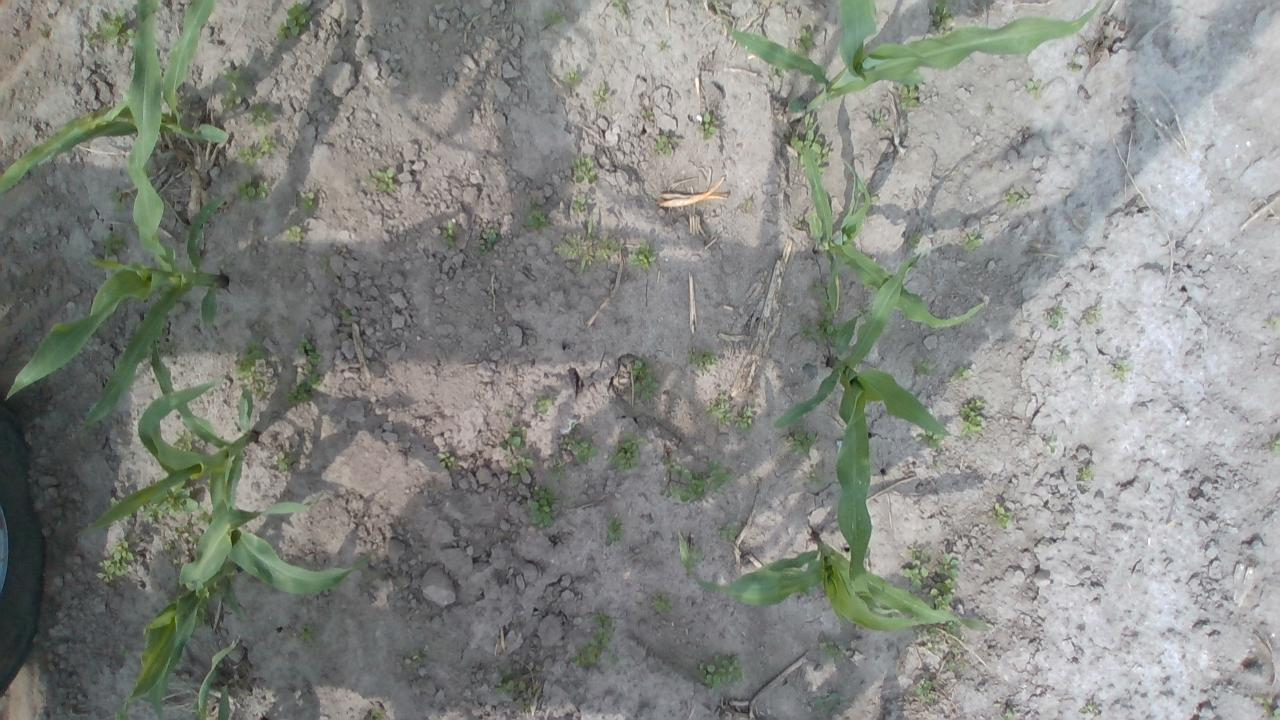Maize: (0, 0, 229, 431), (84, 338, 372, 594), (774, 254, 968, 624), (724, 0, 1106, 115), (116, 499, 314, 720), (793, 133, 985, 331), (676, 520, 996, 631), (0, 97, 233, 196), (107, 0, 215, 126), (195, 640, 234, 720)
Weeds: (660, 456, 736, 503), (567, 613, 623, 666), (231, 334, 271, 400), (140, 483, 198, 525), (791, 130, 831, 178), (694, 652, 745, 688), (217, 66, 255, 110), (96, 538, 134, 582), (526, 483, 561, 528), (98, 8, 136, 48), (607, 430, 641, 473), (494, 671, 533, 707), (236, 134, 276, 168), (276, 3, 311, 40), (558, 435, 600, 465), (630, 359, 659, 401), (798, 318, 842, 344), (902, 548, 928, 592), (958, 397, 986, 434), (288, 374, 320, 406), (929, 0, 960, 33), (704, 392, 732, 426), (297, 335, 321, 373), (927, 578, 955, 610), (238, 174, 270, 202), (784, 430, 817, 457), (686, 346, 719, 372), (510, 456, 536, 488), (552, 231, 582, 258), (630, 241, 656, 272), (171, 428, 203, 452), (571, 158, 599, 184), (1252, 694, 1280, 720), (102, 232, 128, 259), (698, 112, 721, 142), (248, 102, 274, 128), (498, 424, 526, 448), (654, 133, 680, 158), (534, 392, 560, 417), (174, 523, 202, 546), (605, 513, 625, 545), (898, 82, 919, 112), (936, 552, 960, 578), (372, 166, 396, 192), (478, 228, 502, 254), (520, 205, 544, 230), (818, 640, 843, 664), (930, 620, 960, 640), (919, 429, 945, 450), (914, 678, 934, 705), (992, 502, 1012, 529), (733, 406, 752, 434), (1006, 188, 1030, 210), (271, 450, 293, 473), (110, 188, 128, 216), (596, 238, 624, 256), (1110, 360, 1132, 382), (294, 190, 316, 212), (541, 8, 567, 26), (962, 232, 984, 253), (1082, 304, 1103, 326), (814, 692, 837, 712), (1046, 304, 1064, 329), (651, 592, 673, 612), (715, 521, 738, 540), (911, 357, 934, 376), (442, 222, 458, 248), (1051, 349, 1071, 368), (572, 195, 594, 212), (1065, 52, 1082, 74), (435, 451, 457, 468), (870, 112, 890, 130), (796, 30, 816, 48), (550, 460, 568, 480), (803, 473, 826, 488), (286, 224, 305, 242), (562, 69, 582, 86), (785, 97, 804, 114), (806, 280, 829, 294), (946, 647, 960, 670), (816, 298, 831, 318), (1076, 466, 1096, 481), (908, 231, 924, 248), (952, 366, 969, 382), (767, 63, 784, 78), (318, 254, 332, 272), (298, 624, 312, 642), (802, 113, 816, 130), (1024, 80, 1040, 94), (688, 546, 704, 560), (82, 31, 96, 47), (408, 650, 426, 662), (196, 514, 211, 528), (592, 85, 609, 97), (578, 255, 590, 272), (336, 307, 352, 319), (1078, 704, 1093, 716), (869, 192, 881, 207), (585, 218, 593, 240), (999, 710, 1016, 720), (1266, 318, 1280, 330), (608, 0, 626, 9), (1270, 438, 1280, 454), (118, 646, 130, 657), (109, 497, 122, 507), (562, 496, 576, 505), (959, 634, 970, 643), (656, 40, 666, 49), (502, 408, 512, 416), (161, 542, 171, 550), (570, 422, 576, 428)
